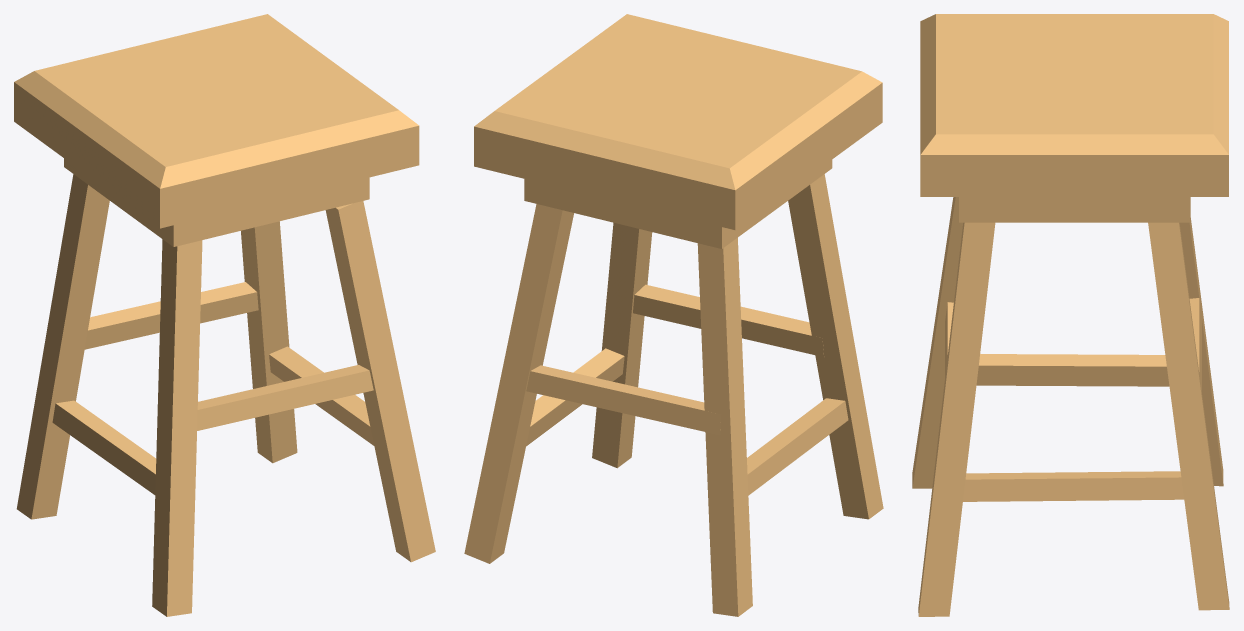
Rendered from Wooden Stool.glb.
3 renders of one model, left to right at view 1: azimuth 30°, elevation 25°; view 2: azimuth 150°, elevation 25°; view 3: azimuth 270°, elevation 25°, orthographic. The views are drawn at different scales.
Parts seen in each view (by area): view 1: Node; view 2: Node; view 3: Node.
Boxes of the visible parts, bbox=[...] form: Node: bbox=[14, 14, 435, 616]; Node: bbox=[464, 14, 883, 616]; Node: bbox=[912, 14, 1229, 616].
Bounding box in the file's own units: 0.435 × 0.6755 × 0.4111.
